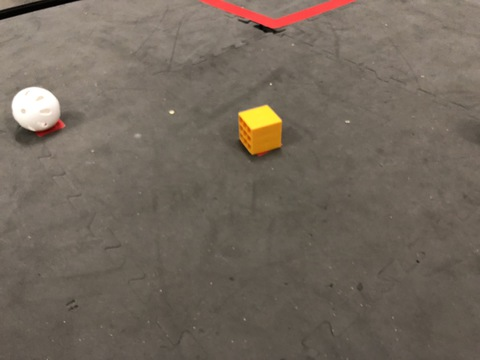ball: (11, 84, 64, 138)
block: (237, 101, 288, 156)
